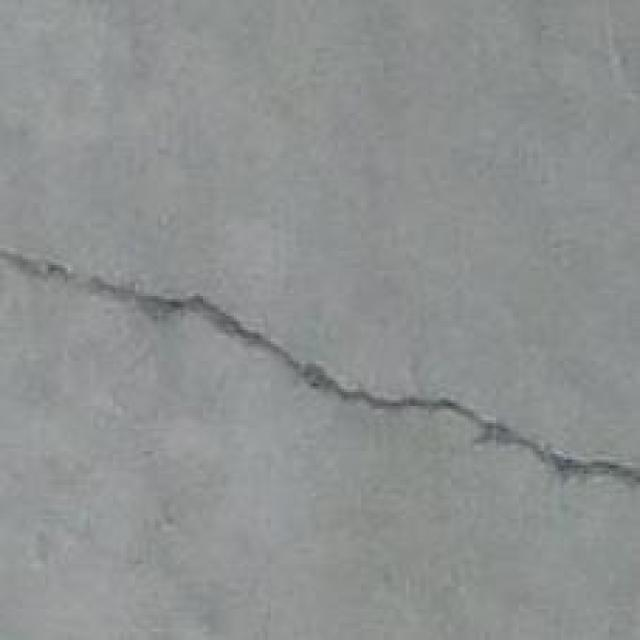Crack: (0, 248, 637, 474)
